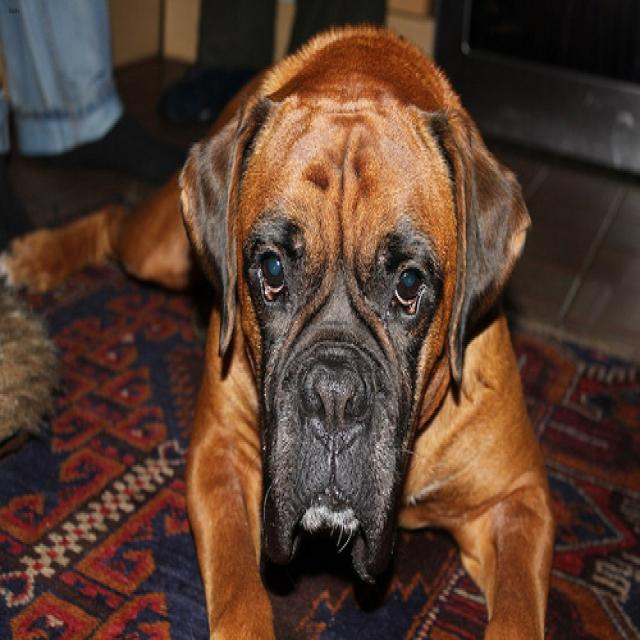dog-boxer: (1, 17, 562, 636)
